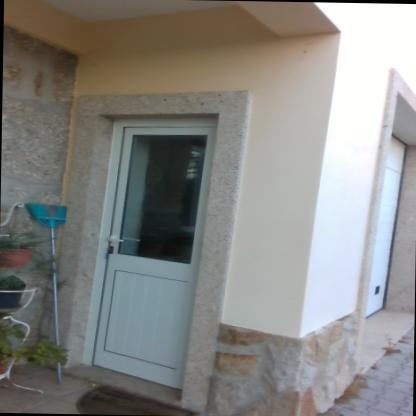closed: (66, 102, 235, 398)
